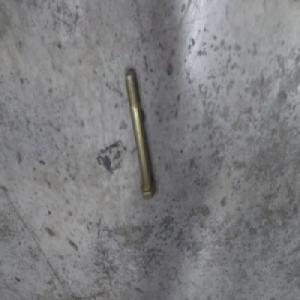Bolt: (124, 68, 155, 197)
